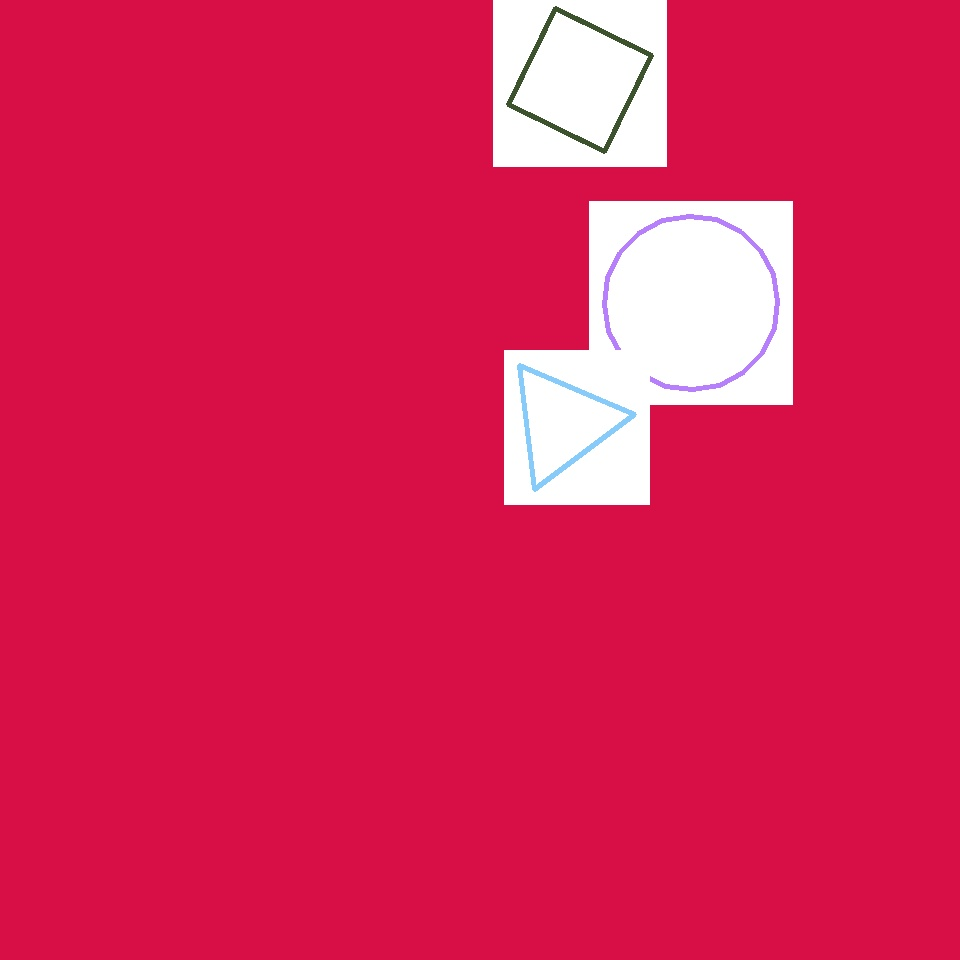circle: (88, 50, 412, 352), (505, 361, 620, 485), (415, 210, 515, 318)
square: (508, 8, 652, 152)
triangle: (605, 216, 778, 390)
